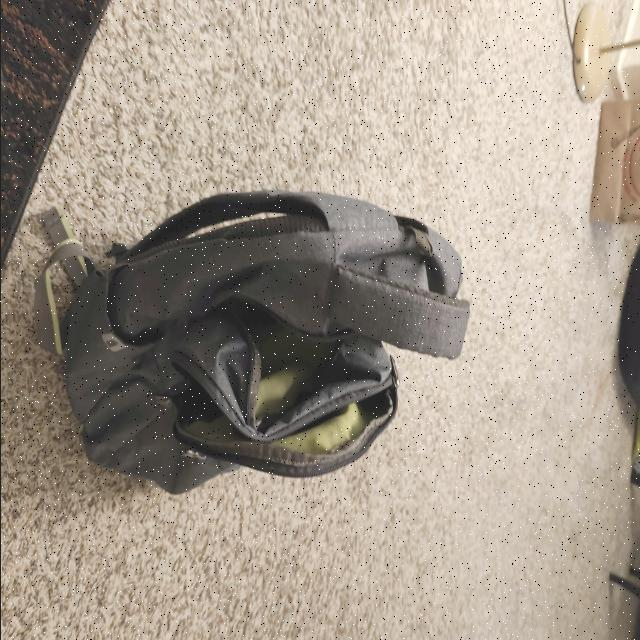bag: (63, 189, 456, 485)
